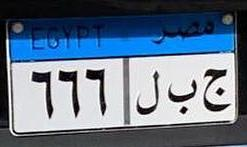6: (57, 67, 80, 118), (85, 66, 107, 116), (31, 69, 53, 119)
baa: (166, 76, 198, 114)
jeem: (200, 66, 234, 115)
laam: (132, 69, 161, 115)
